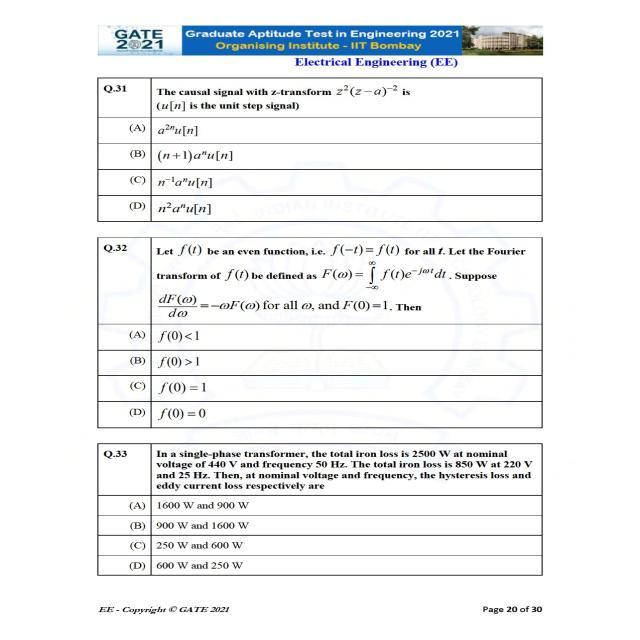Answer_Block: (98, 322, 544, 428), (98, 118, 544, 219), (95, 494, 542, 580)
Question_Answer_Block: (95, 238, 542, 428), (94, 80, 541, 220), (98, 444, 540, 580)
Question_Block: (95, 239, 542, 323), (98, 444, 544, 494), (96, 76, 539, 120)
Question_Paper_Area: (93, 78, 544, 576)
